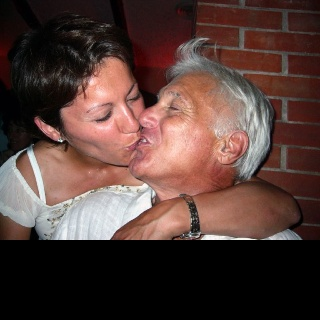without_mask: (59, 56, 145, 166)
